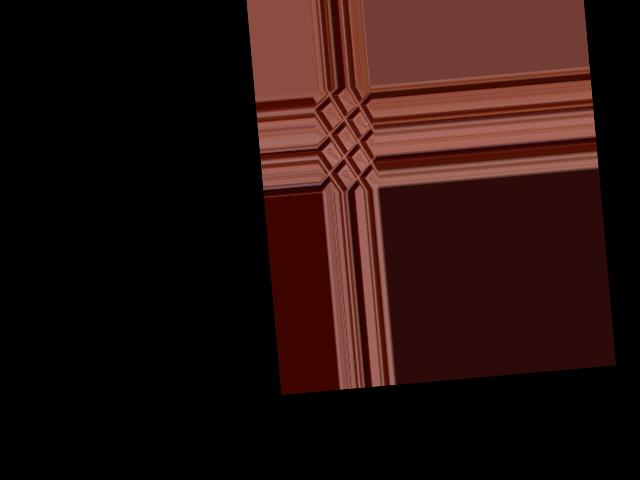chocolate: (311, 85, 377, 190)
